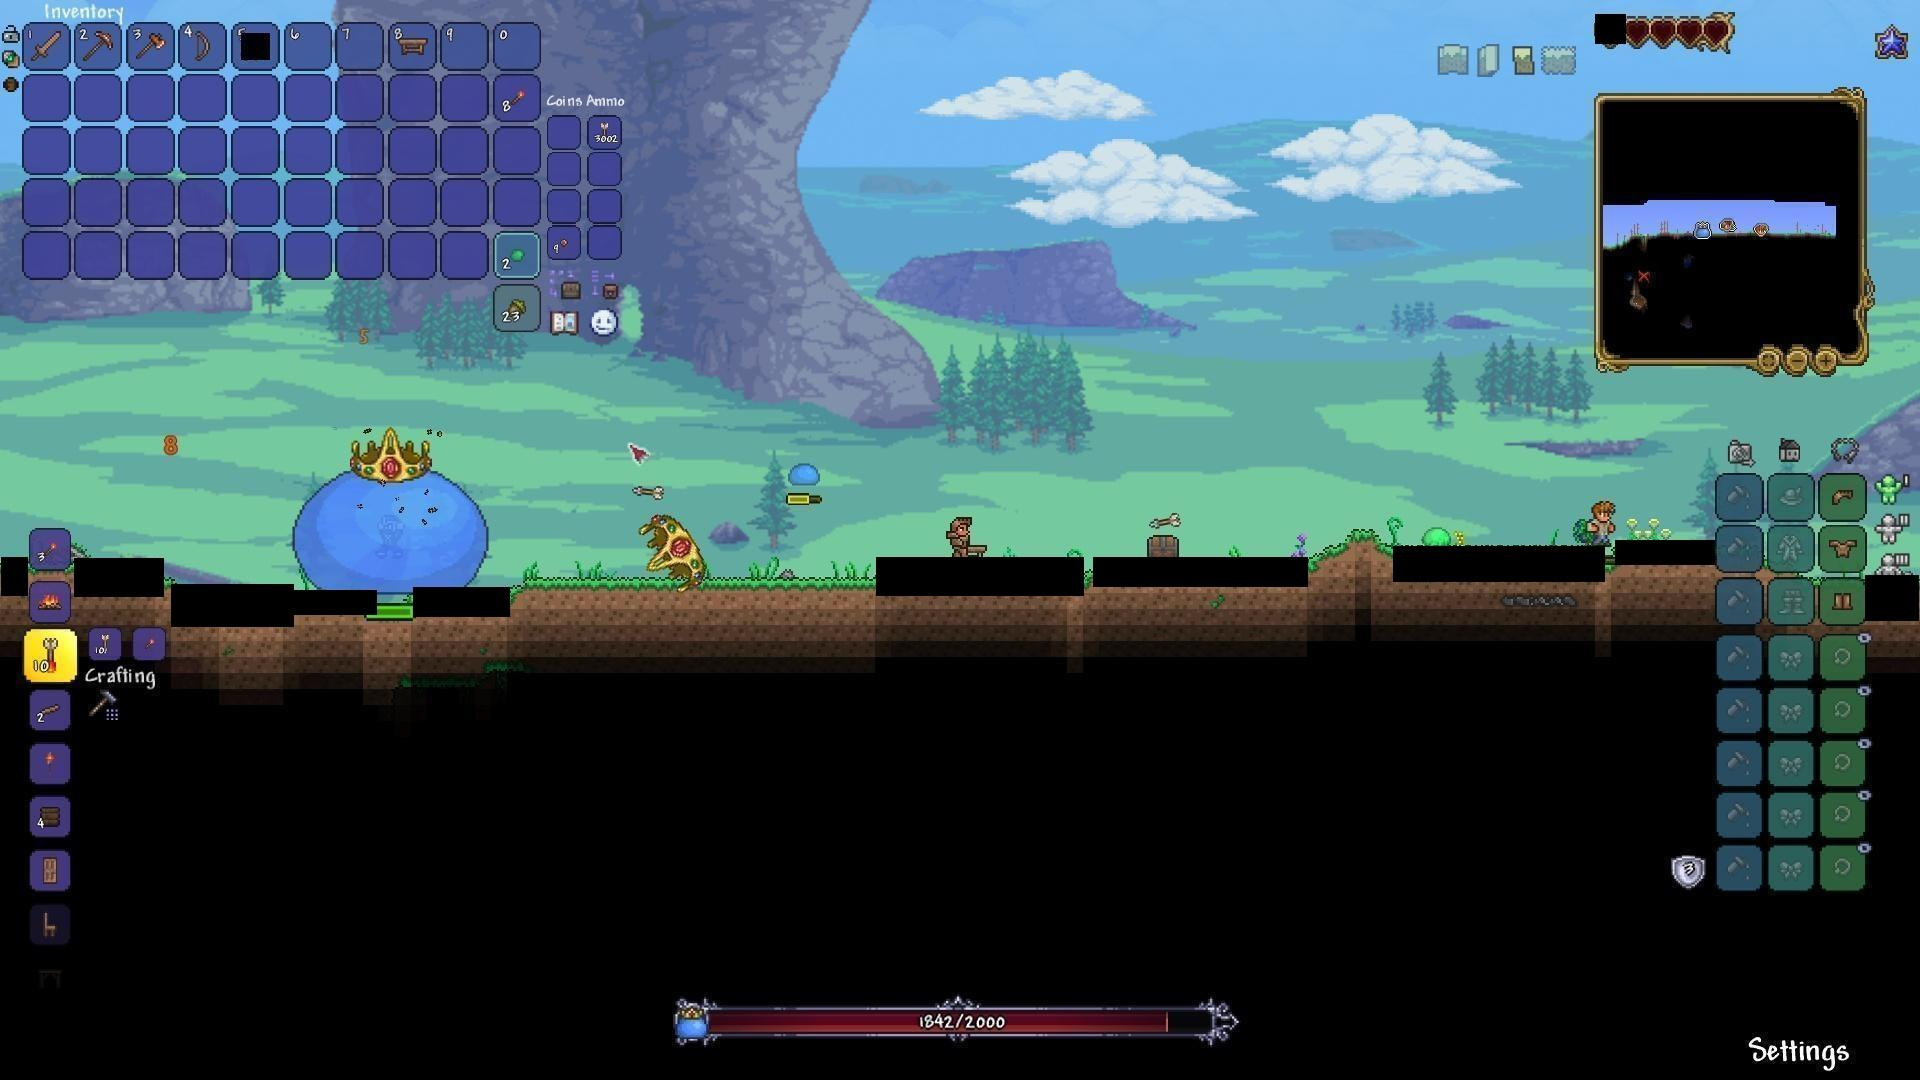breastplate: (1829, 537, 1859, 559)
dirt: (522, 570, 865, 607), (1309, 524, 1390, 582)
helmet: (1828, 483, 1858, 510)
legs: (1832, 588, 1855, 617)
slime: (786, 462, 825, 489), (1420, 527, 1455, 553)
workbench: (394, 36, 431, 61), (960, 541, 992, 564)
